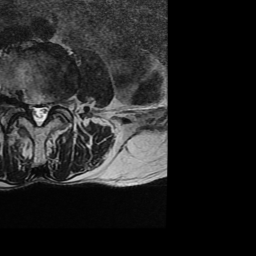CCS_normal: (35, 98, 42, 132)
LFS_stenosis: (50, 91, 59, 114)
LLS_normal: (42, 97, 50, 126)
RFS_severe_stenosis: (18, 90, 26, 115)
RLS_stenosis: (26, 97, 35, 122)
